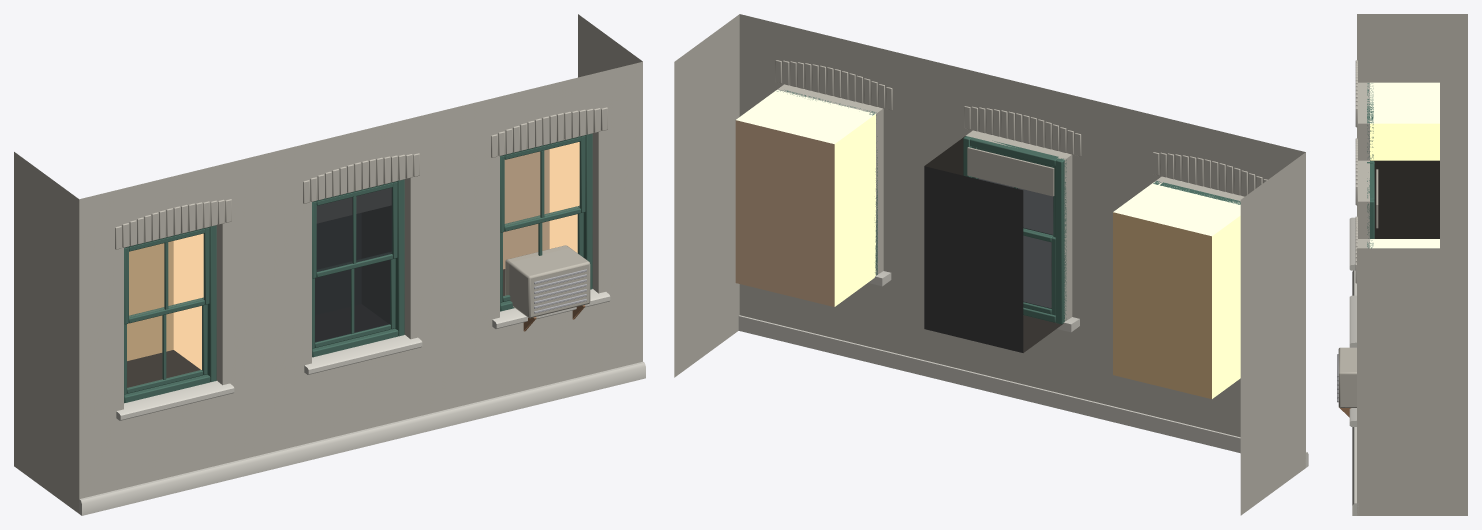
The model's file is upper_6b.glb.
The picture shows the model from 3 angles, left to right: view 1: azimuth 30°, elevation 25°; view 2: azimuth 150°, elevation 25°; view 3: azimuth 270°, elevation 25°; orthographic projection. The views are drawn at different scales.
Visible parts, largest first — view 1: upper_6b; view 2: upper_6b; view 3: upper_6b.
Part boxes in pixels (x1,y1,x2,y2): upper_6b: (14,14,645,515); upper_6b: (674,14,1308,515); upper_6b: (1337,14,1467,515).
Bounding box in the file's own units: 6 × 3.2 × 1.42.
